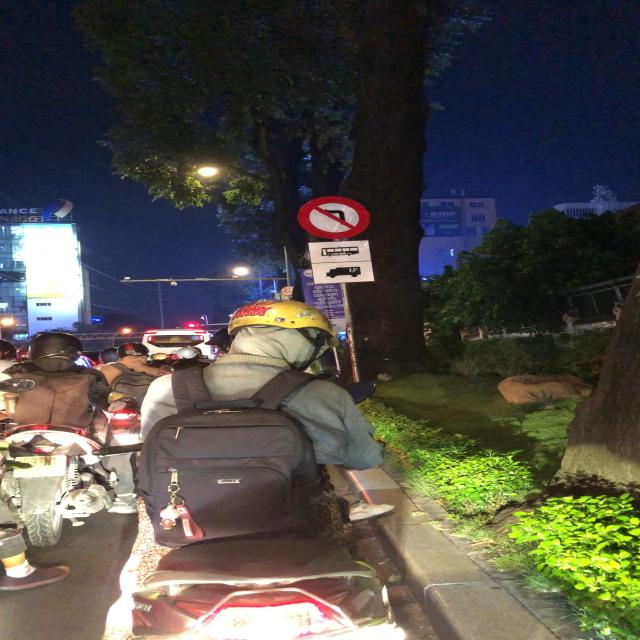Bien bao cam re trai: (292, 192, 376, 240)
